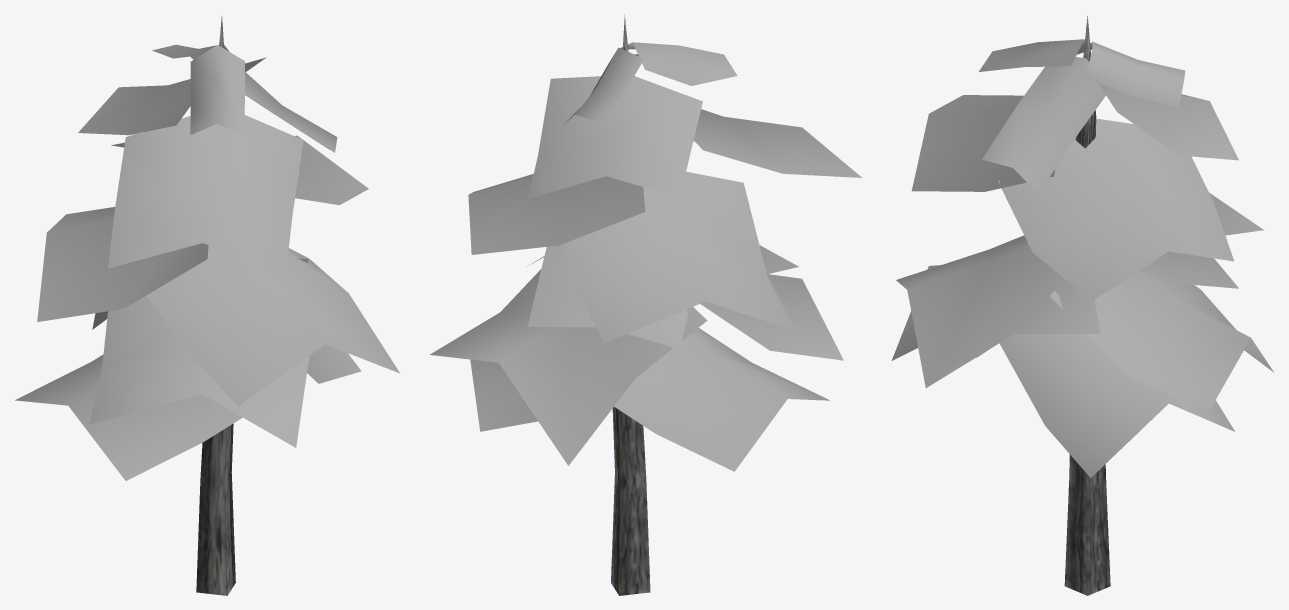
The picture shows the model from 3 angles, left to right: view 1: azimuth 30°, elevation 25°; view 2: azimuth 150°, elevation 25°; view 3: azimuth 270°, elevation 25°; orthographic projection.
Parts seen in each view (by area): view 1: a01; view 2: a01; view 3: a01.
Part boxes in pixels (x1,y1,x2,y2): a01: (15, 16, 400, 595); a01: (430, 14, 861, 595); a01: (891, 16, 1273, 595).
Bounding box in the file's own units: 868 × 1448 × 874.
